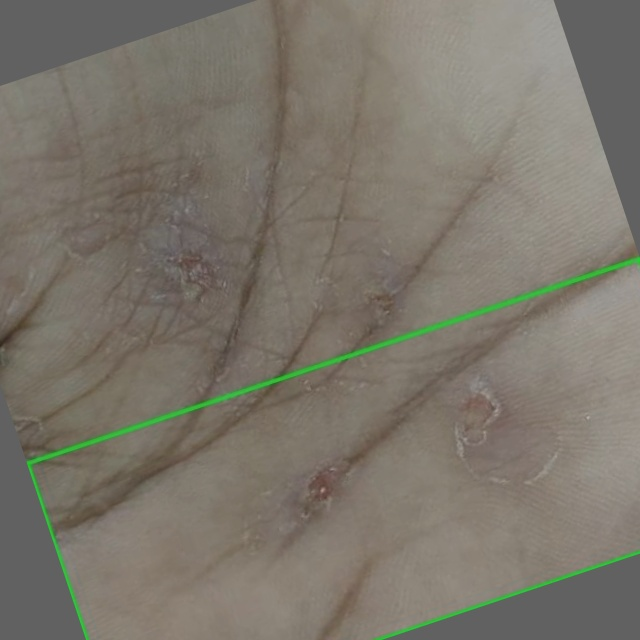Scabies: (27, 258, 639, 639)
